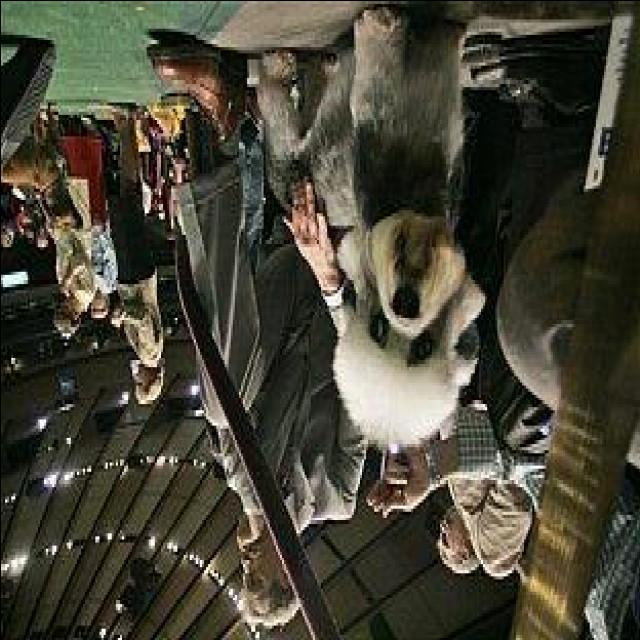dandie_dinmont: (250, 3, 482, 449)
